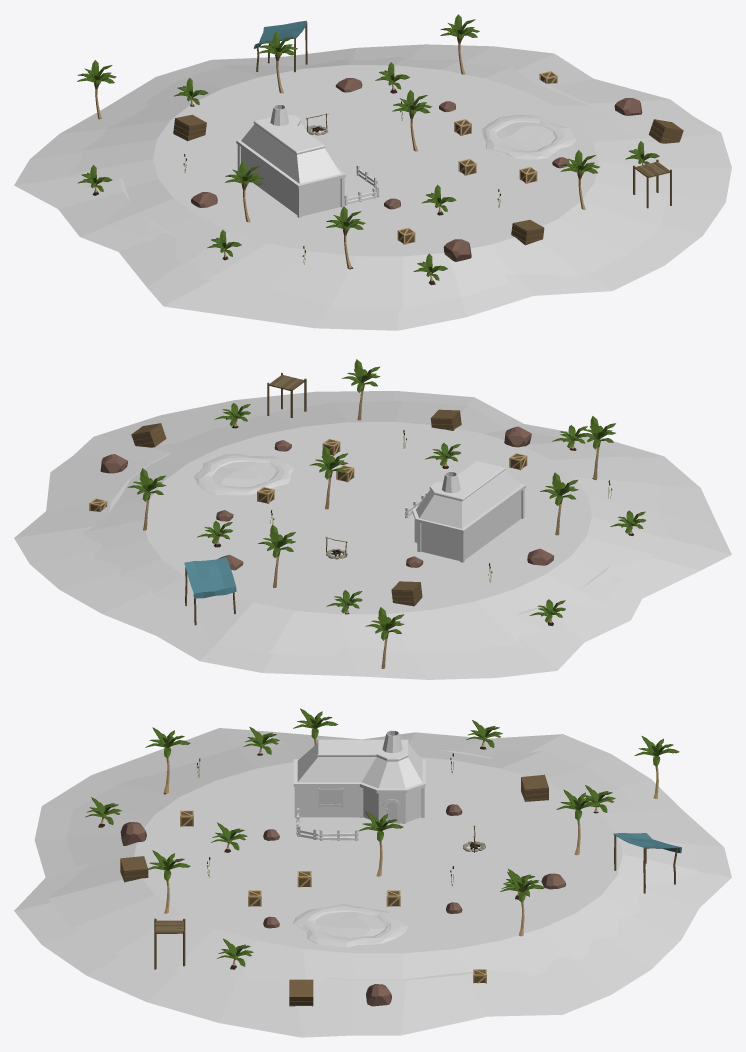
File: transformedisland.fbx
3 views of the same model, one above another, from view 1: azimuth 30°, elevation 25°; view 2: azimuth 150°, elevation 25°; view 3: azimuth 270°, elevation 25° (orthographic). The views are drawn at different scales.
Visible parts, largest first — view 1: Cylinder.001, Cylinder, Cube.009, Plane.002, Torus, Plane.003, Cylinder.016, Cube.019, dock, Cube.038, Cube.018, palm1.005 (+6 smaller); view 2: Cylinder.001, Cylinder, Cube.009, Plane.002, Torus, Cylinder.016, Plane.003, dock, Cube.019, palm1.004, palm1.005, palm1 (+6 smaller); view 3: Cylinder.001, Cylinder, Cube.009, Plane.002, Torus, Plane.003, Cylinder.016, Cube.019, Cube.038, dock, Cube.018, palm1.004 (+6 smaller).
Boxes of the visible parts, bbox=[...] form: Cylinder.001: bbox=[69, 57, 665, 309]; Cylinder: bbox=[14, 44, 731, 330]; Cube.009: bbox=[236, 115, 345, 188]; Plane.002: bbox=[241, 147, 340, 216]; Torus: bbox=[481, 115, 576, 159]; Plane.003: bbox=[496, 122, 554, 150]; Cylinder.016: bbox=[253, 20, 307, 72]; Cube.019: bbox=[173, 114, 206, 141]; dock: bbox=[633, 159, 671, 208]; Cube.038: bbox=[648, 119, 683, 143]; Cube.018: bbox=[511, 219, 544, 245]; palm1.005: bbox=[225, 161, 264, 222]; Cylinder.001: bbox=[83, 401, 671, 655]; Cylinder: bbox=[14, 391, 731, 679]; Cube.009: bbox=[412, 461, 525, 533]; Plane.002: bbox=[416, 491, 521, 560]; Torus: bbox=[194, 454, 293, 495]; Cylinder.016: bbox=[184, 557, 236, 625]; Plane.003: bbox=[211, 461, 276, 487]; dock: bbox=[267, 373, 306, 417]; Cube.019: bbox=[391, 581, 422, 606]; palm1.004: bbox=[578, 416, 615, 479]; palm1.005: bbox=[540, 472, 578, 535]; palm1: bbox=[309, 446, 347, 509]; Cylinder.001: bbox=[48, 739, 698, 992]; Cylinder: bbox=[14, 728, 731, 1037]; Cube.009: bbox=[293, 739, 425, 793]; Plane.002: bbox=[298, 787, 420, 823]; Torus: bbox=[293, 904, 407, 947]; Plane.003: bbox=[315, 912, 385, 937]; Cylinder.016: bbox=[613, 833, 681, 893]; Cube.019: bbox=[521, 774, 548, 801]; Cube.038: bbox=[289, 979, 313, 1006]; dock: bbox=[154, 918, 185, 969]; Cube.018: bbox=[120, 856, 148, 882]; palm1.004: bbox=[145, 727, 190, 794].
Size of the model in its own units: 7631 by 1153 by 7476.
